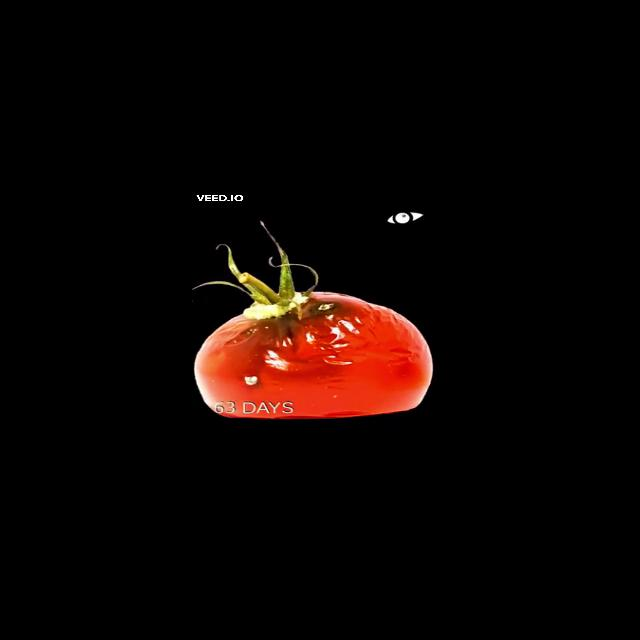tomato: (192, 257, 438, 425)
